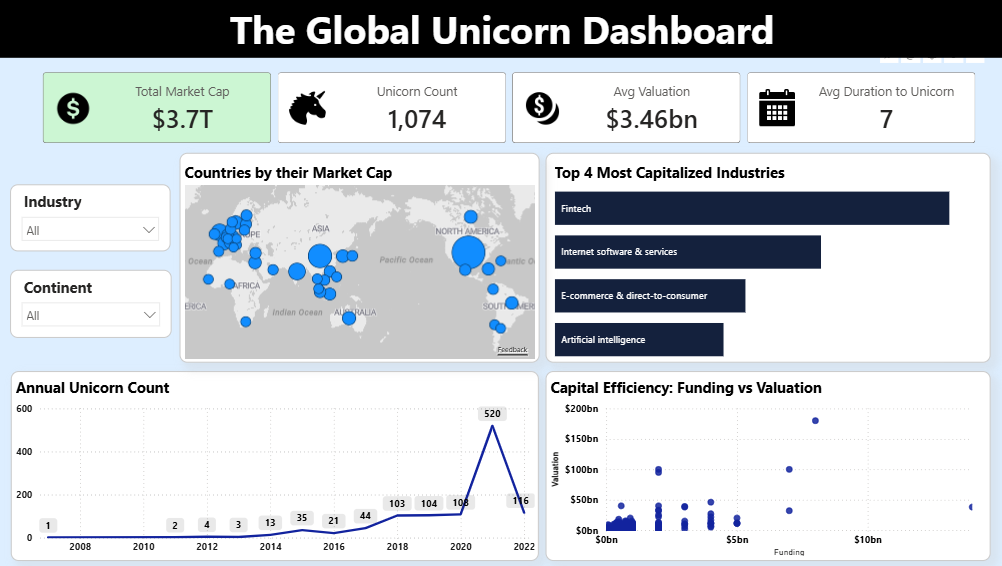

This screenshot's page, from the dashboard's own definition file:
{"tool":"powerbi","page":{"name":"Home","canvas":[1280,720],"ordinal":0},"visuals":[{"type":"cardVisual","fields":{"Data":["_Measures.Total Market Cap","_Measures.Unicorn Count","_Measures.Avg Valuation","_Measures.Avg Duration to Unicorn"]},"box":[44.8,80.6,1208.3,114.7],"z":0},{"type":"lineChart","title":"Annual Unicorn Count","fields":{"Y":["_Measures.Unicorn Count"],"Category":["DateTable.Year"]},"box":[16.3,472,671.3,241],"z":1000},{"type":"barChart","title":"Top 4 Most Capitalized Industries","fields":{"Category":["Unicorn_Companies.Industry"],"Y":["_Measures.Total Market Cap"]},"box":[694.8,195.7,565.3,266.3],"z":2000},{"type":"azureMap","title":"Countries by their Market Cap","fields":{"Category":["Unicorn_Companies.Country"],"Size":["_Measures.Total Market Cap"]},"box":[230.1,195.7,457.5,267.2],"z":3000},{"type":"scatterChart","title":"Capital Efficiency: Funding vs Valuation","fields":{"X":["Sum(Unicorn_Companies.Funding)"],"Y":["Sum(Unicorn_Companies.Valuation)"],"Category":["Unicorn_Companies.Company"]},"box":[694.8,472,565.3,241],"z":4000},{"type":"slicer","fields":{"Values":["Unicorn_Companies.Industry"]},"box":[15.3,235.7,204.2,85.5],"z":5000},{"type":"slicer","fields":{"Values":["Unicorn_Companies.Continent"]},"box":[15.3,343.6,205.1,87.3],"z":6000},{"type":"textbox","box":[0,0,1280,74.3],"z":7000}]}

Visuals, with their boxes in screenshot pixels (x1, y1, x2, y2), scaled from the page's 1280x720 canvas onto the 1002x566 screenshot:
cardVisual - _Measures.Total Market Cap x _Measures.Unicorn Count: detection(35, 63, 981, 154)
"Annual Unicorn Count" lineChart: detection(13, 371, 538, 560)
"Top 4 Most Capitalized Industries" barChart: detection(544, 154, 986, 363)
"Countries by their Market Cap" azureMap: detection(180, 154, 538, 364)
"Capital Efficiency: Funding vs Valuation" scatterChart: detection(544, 371, 986, 560)
slicer - Unicorn_Companies.Industry: detection(12, 185, 172, 252)
slicer - Unicorn_Companies.Continent: detection(12, 270, 173, 339)
textbox: detection(0, 0, 1001, 58)
